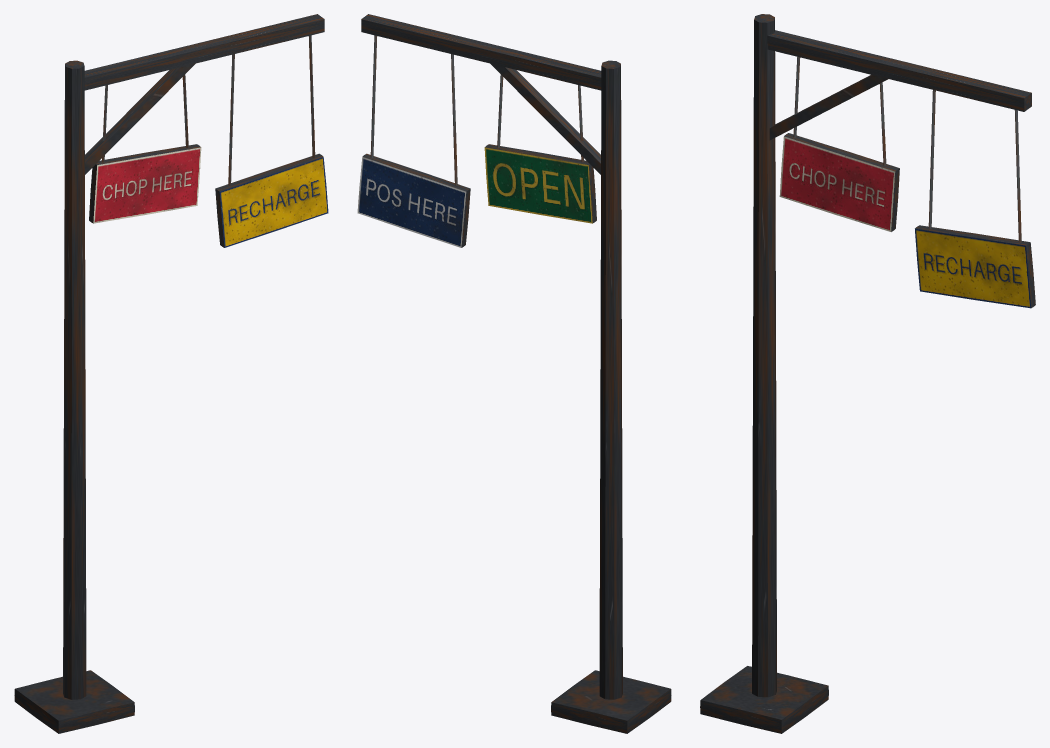
File: env_shopsign-gKSDddzB.glb
3 views of the same model, side by side, from view 1: azimuth 30°, elevation 25°; view 2: azimuth 150°, elevation 25°; view 3: azimuth 330°, elevation 25° (orthographic). The views are drawn at different scales.
Visible parts, largest first — view 1: env_shopsign_body; view 2: env_shopsign_body; view 3: env_shopsign_body.
Part boxes in pixels (box(x1,y1,x2,y2)): env_shopsign_body: box(14, 14, 328, 733); env_shopsign_body: box(357, 14, 671, 733); env_shopsign_body: box(700, 14, 1035, 733).
Bounding box in the file's own units: 0.8251 × 1.75 × 0.22.
Materials: 1 (1 with a texture image).
